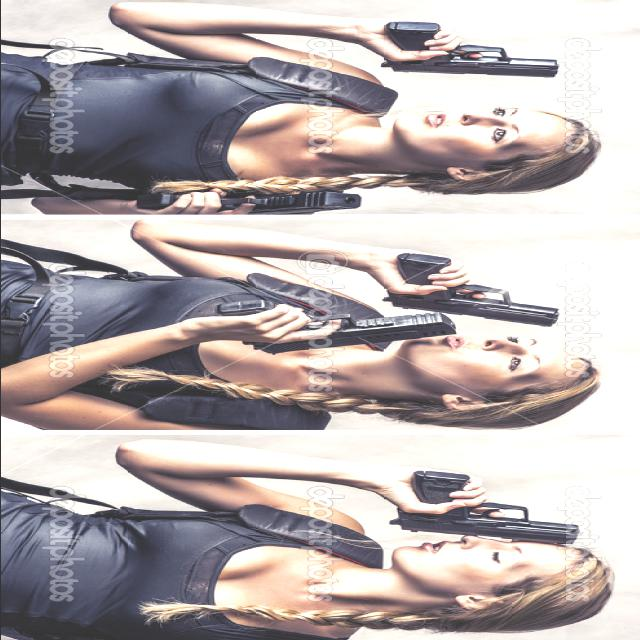handgun: (215, 288, 464, 366), (390, 241, 568, 335), (359, 7, 573, 85), (394, 466, 572, 542), (176, 183, 390, 219)
